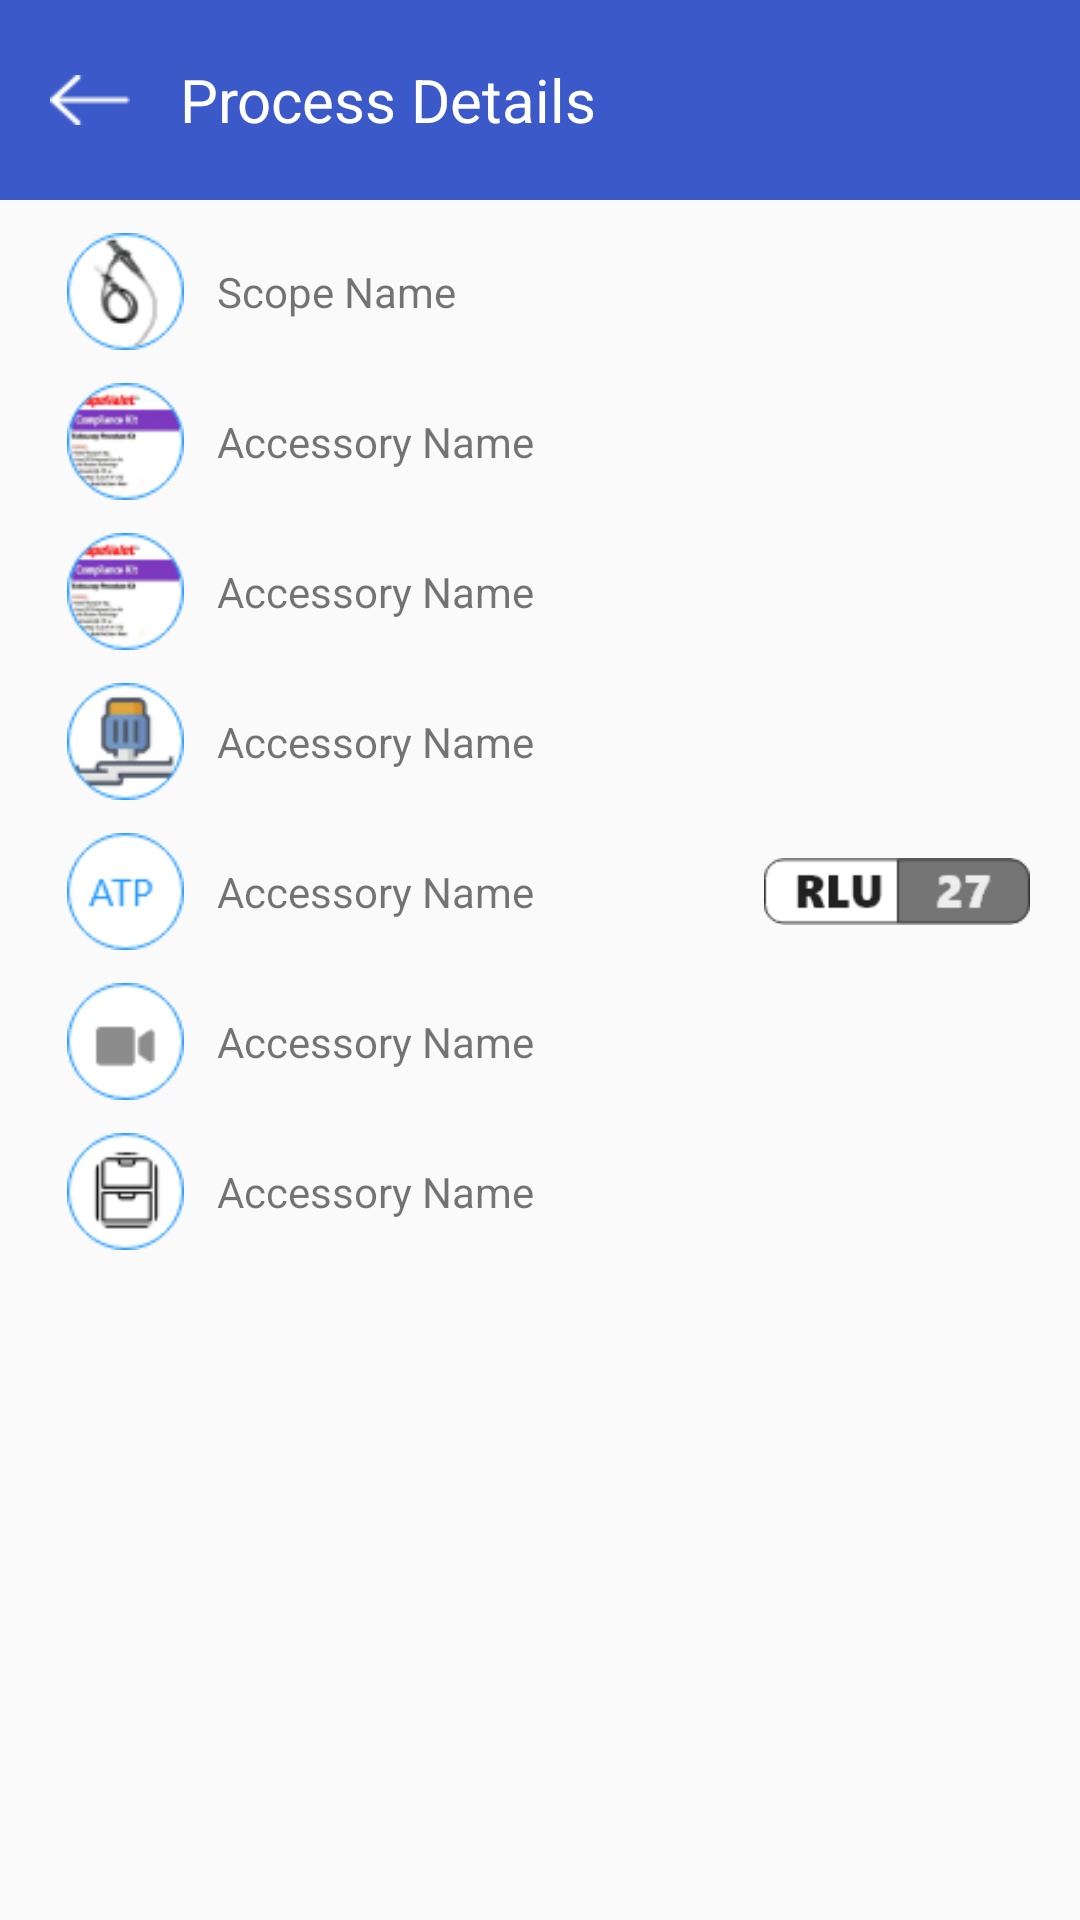

Icons on this 1080px x 1920px Android screen, each with its box as (x1, y1, x2, y2):
pump: (67, 683, 184, 800)
